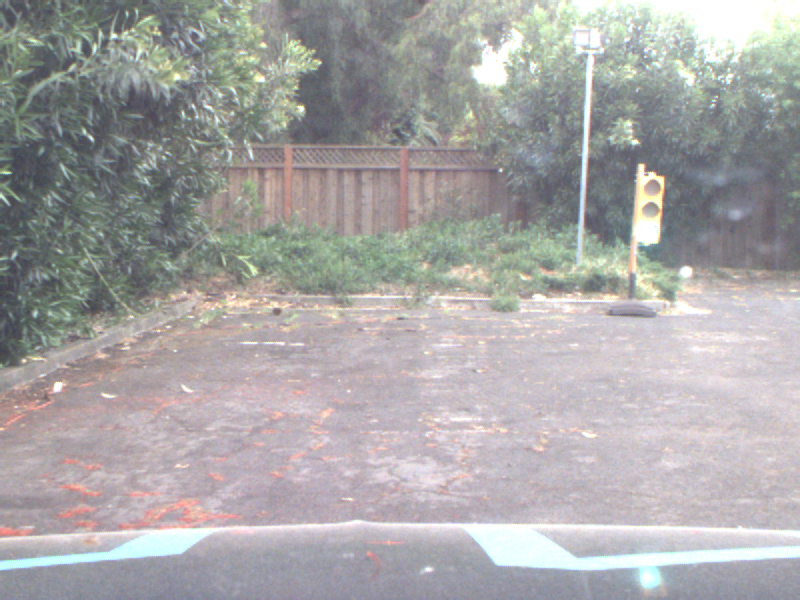Green: (635, 170, 659, 246)
